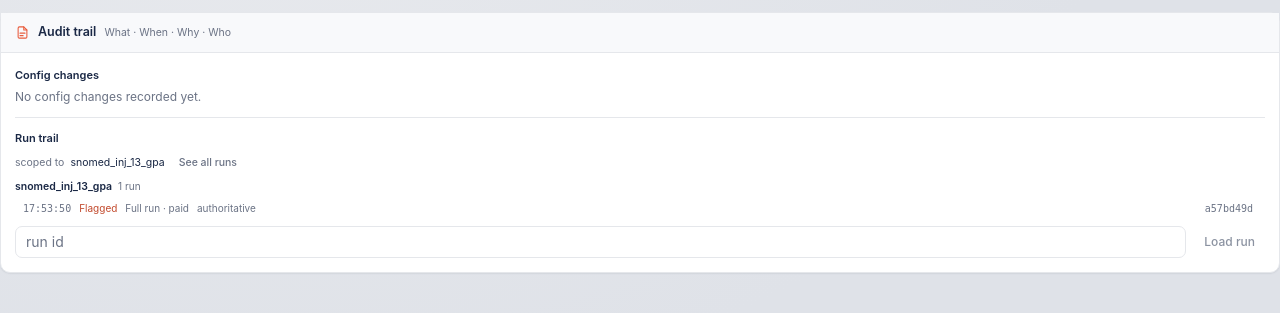
Test case: AuditView — RUN-TRAIL-CASE-SCOPE: the trail scopes to the card's case › S2 — the see-all affordance is one click away: it refetches unscoped and renders every group
This screenshot has width=1280, height=313.
Expected: the element with test id "run-trail" is shown, [15,179,1265,220]
Click the button "See all runs" at (208, 163), box [171,153,245,173]
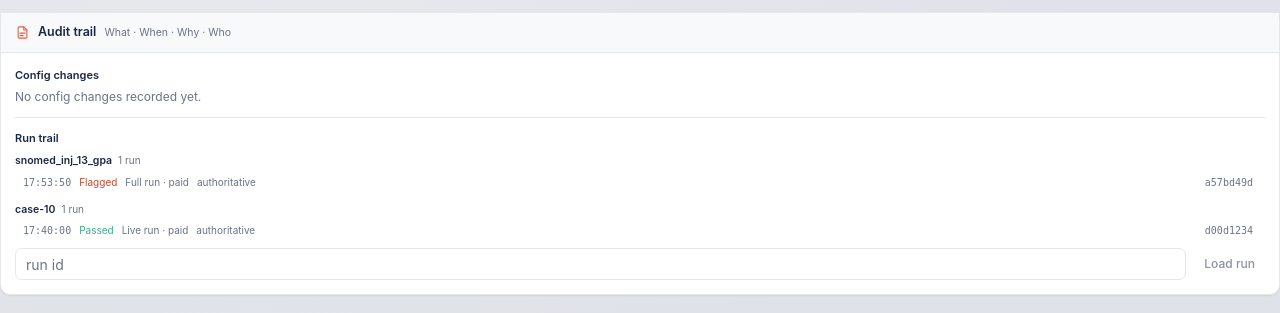
Expected: the number of elements with test id "trail-case" is 2, [15,153,1261,194]; [15,202,1261,242]
